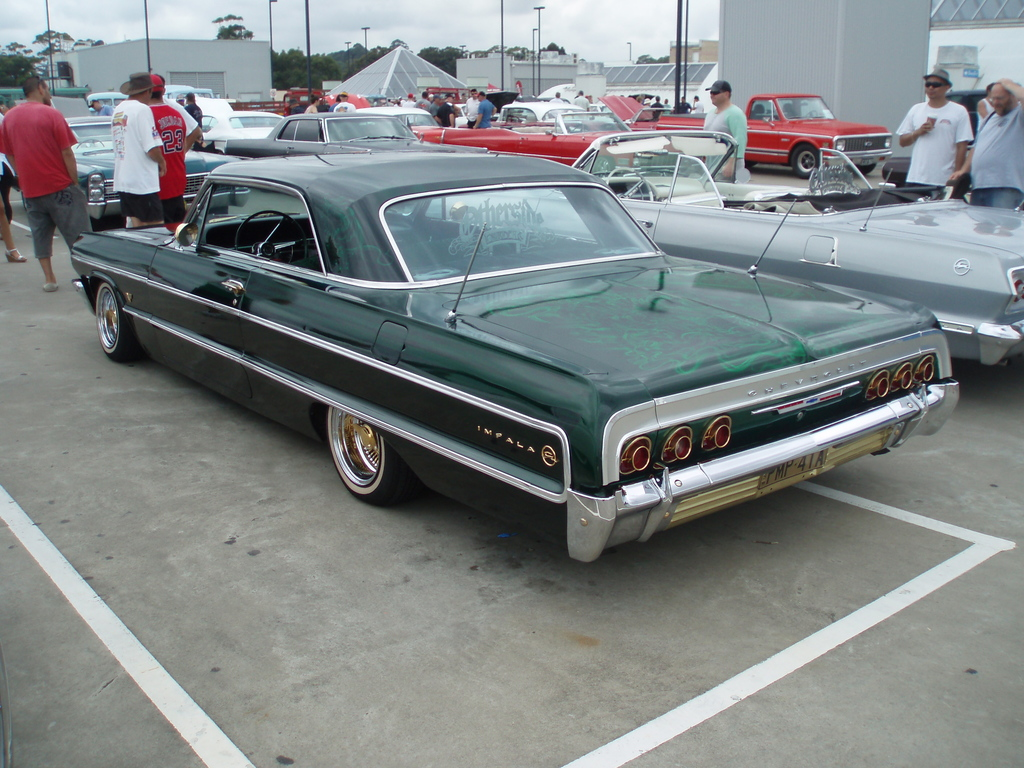cars: (49, 156, 970, 557), (572, 132, 1023, 377), (413, 101, 630, 163), (66, 120, 121, 228)
